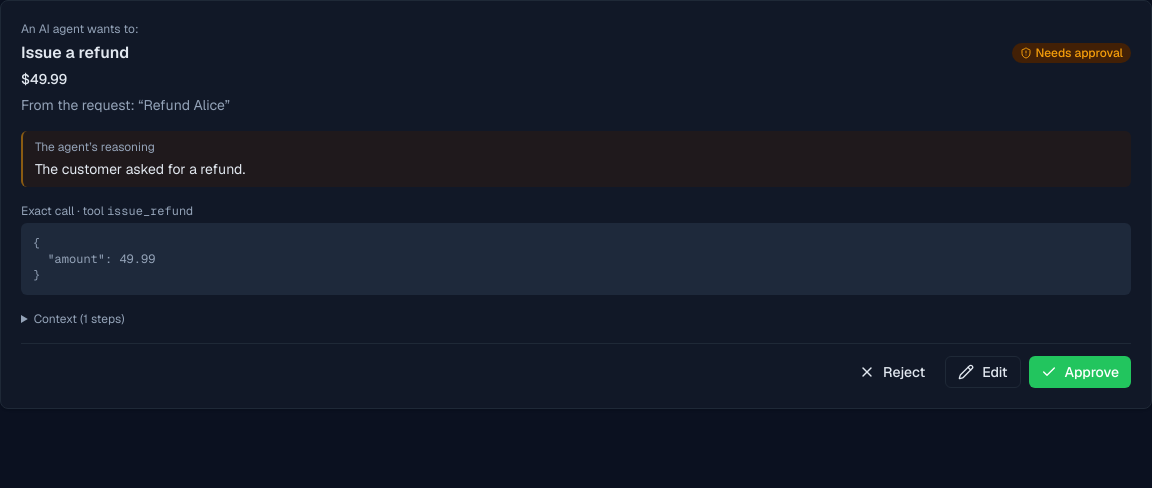
Test: ApprovalCard › shows an error for invalid JSON and does not submit
This screenshot has width=1152, height=488.
Click the button "Edit" at (983, 372), box [945, 356, 1020, 388]
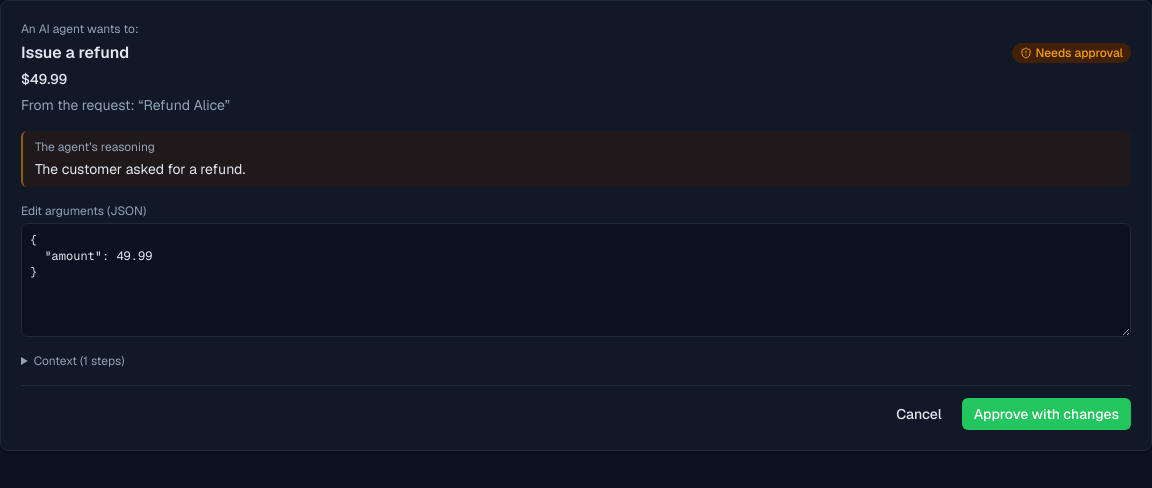
Replace the text in the text box labelled "Edit arguments (JSON)" with "not json" at (576, 280), box [21, 223, 1131, 337]
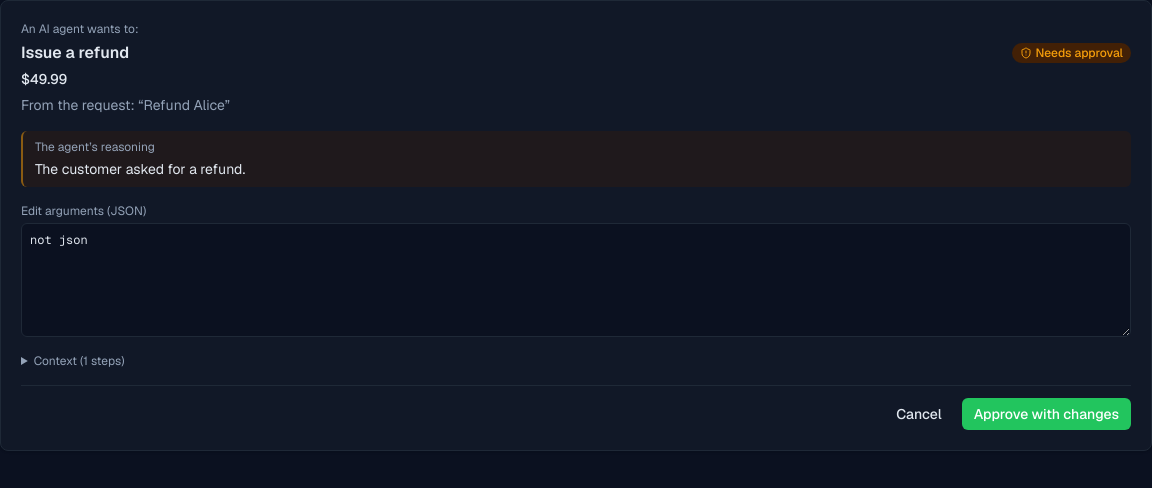
Click the button "Approve with changes" at (1046, 414), box [962, 398, 1131, 430]
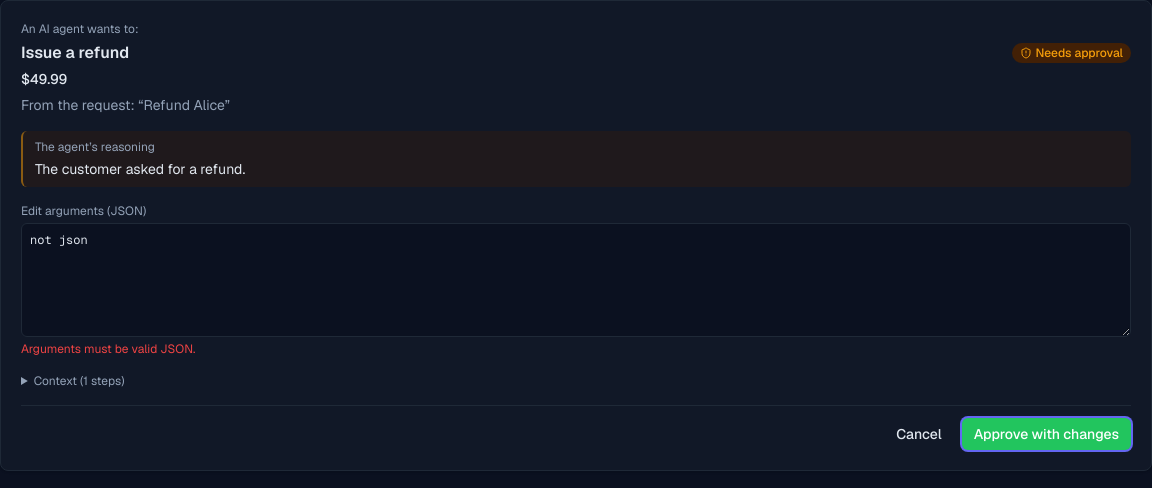
Expected: the text "Arguments must be valid JSON." is shown, [21, 341, 196, 357]
